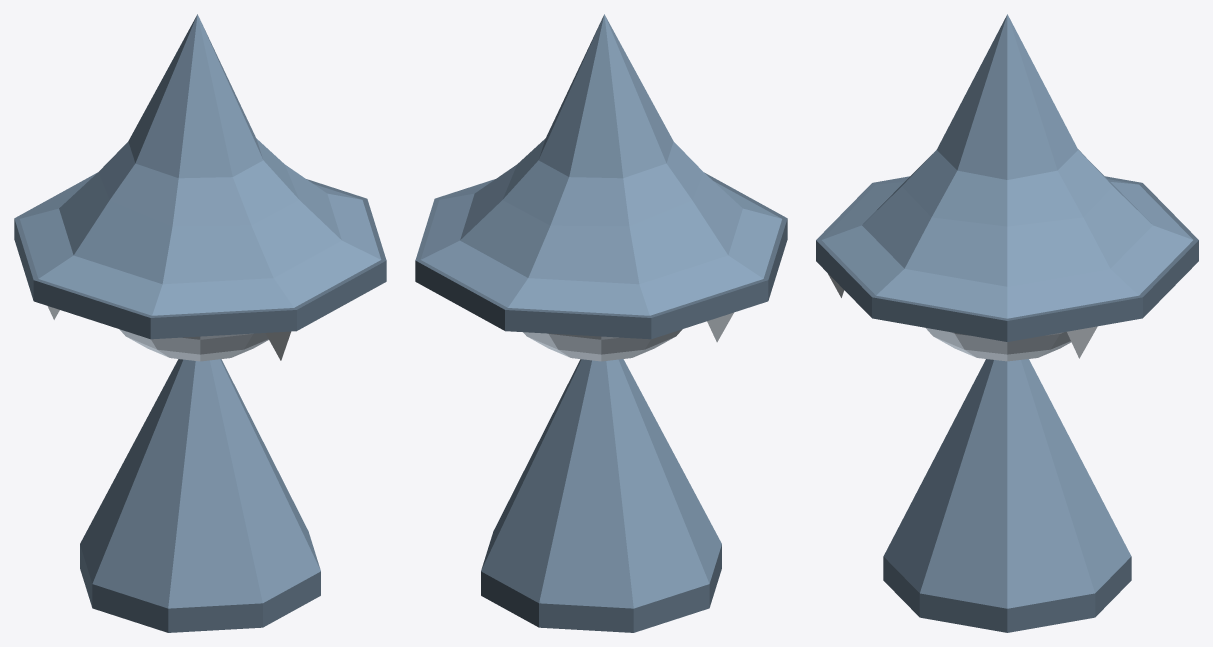
The model's file is cryomancer.fbx.
The picture shows the model from 3 angles, left to right: view 1: azimuth 30°, elevation 25°; view 2: azimuth 150°, elevation 25°; view 3: azimuth 270°, elevation 25°; orthographic projection.
Parts seen in each view (by area): view 1: Cylinder.002, Cylinder, Cylinder.001, Sphere; view 2: Cylinder.002, Cylinder, Cylinder.001, Sphere; view 3: Cylinder.002, Cylinder, Cylinder.001, Sphere.
Part boxes in pixels (bbox=[...]): Cylinder.002: bbox=[20, 14, 381, 315]; Cylinder: bbox=[80, 359, 320, 632]; Cylinder.001: bbox=[14, 172, 386, 339]; Sphere: bbox=[119, 329, 268, 361]; Cylinder.002: bbox=[420, 14, 781, 315]; Cylinder: bbox=[481, 359, 721, 632]; Cylinder.001: bbox=[415, 172, 787, 339]; Sphere: bbox=[523, 329, 682, 361]; Cylinder.002: bbox=[822, 14, 1192, 318]; Cylinder: bbox=[883, 359, 1131, 632]; Cylinder.001: bbox=[816, 176, 1198, 341]; Sphere: bbox=[926, 328, 1071, 361].
Bounding box in the file's own units: 50.42 × 82.12 × 50.42.
7 materials, 7 textured.
